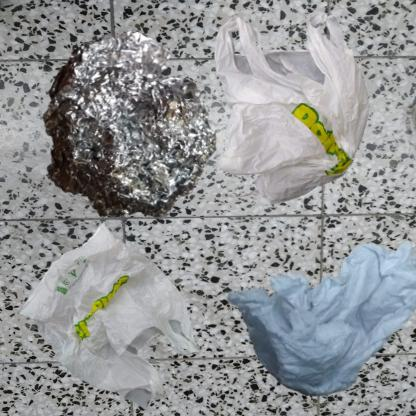aluminio: (10, 10, 251, 265)
bolsa: (10, 213, 208, 416), (213, 10, 372, 206)
papel: (213, 213, 416, 416)
